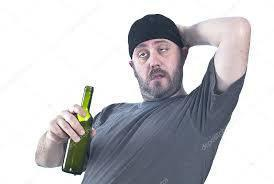Drunk: (135, 43, 178, 94)
